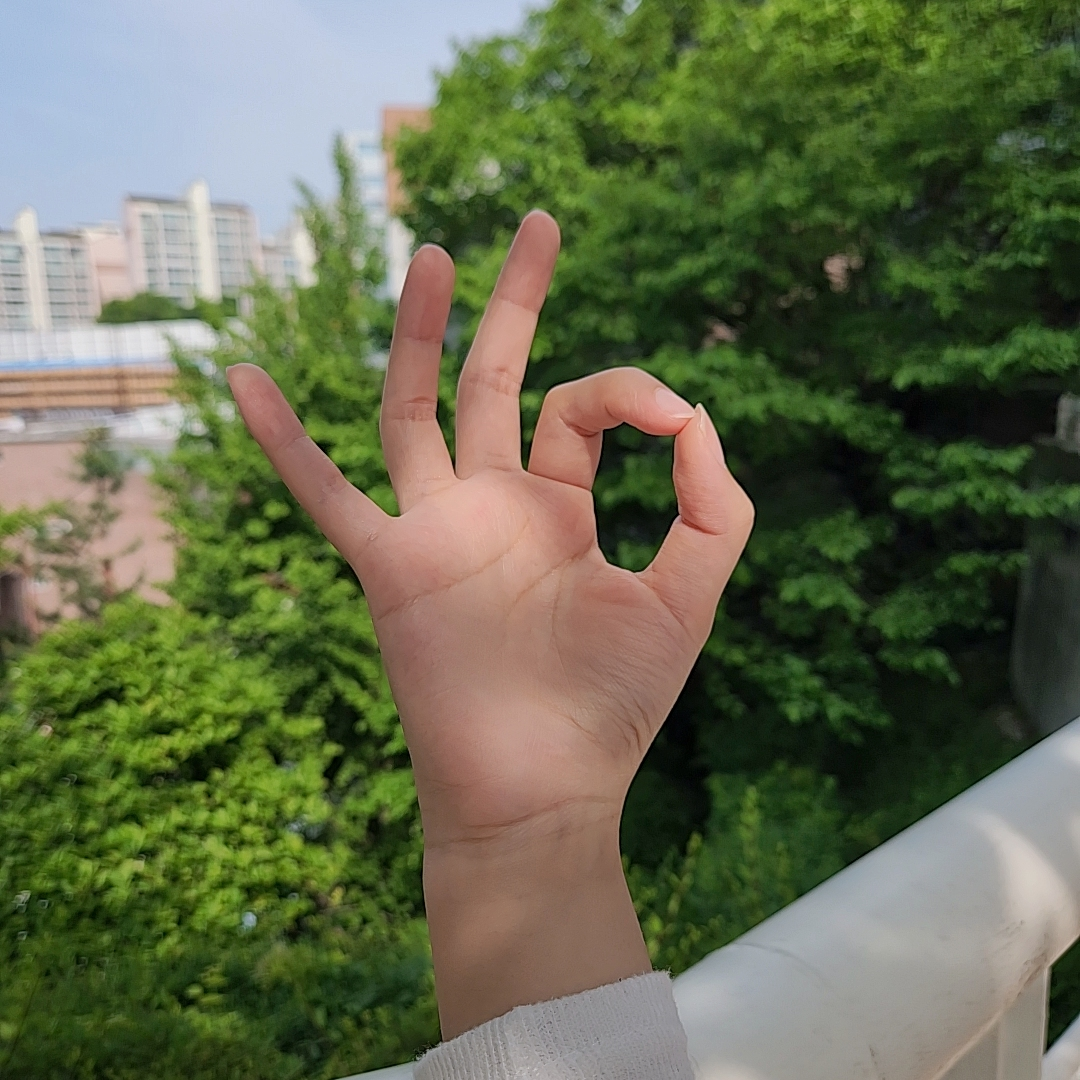see: (226, 208, 756, 797)
